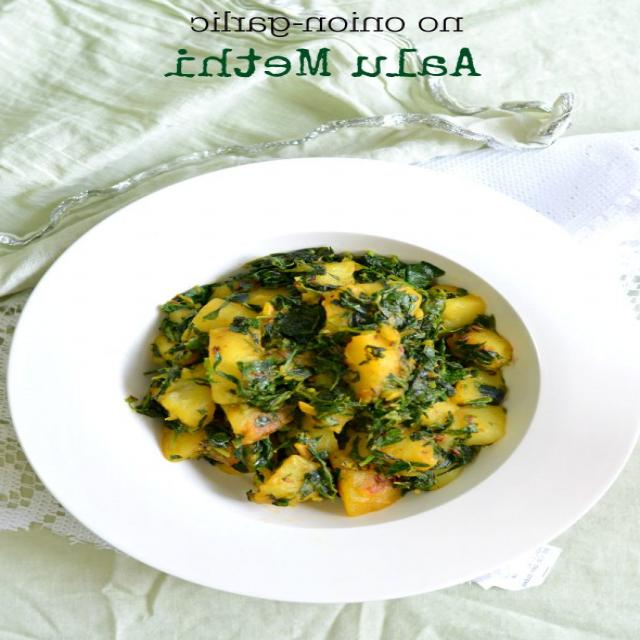Aloo Methi: (129, 250, 524, 503)
